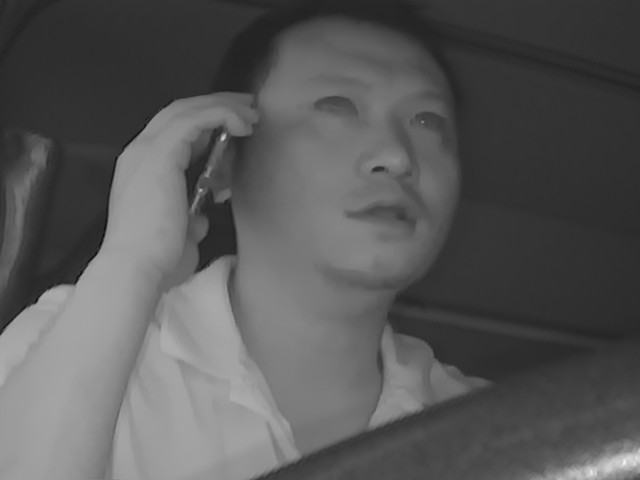hand: (109, 95, 237, 275)
